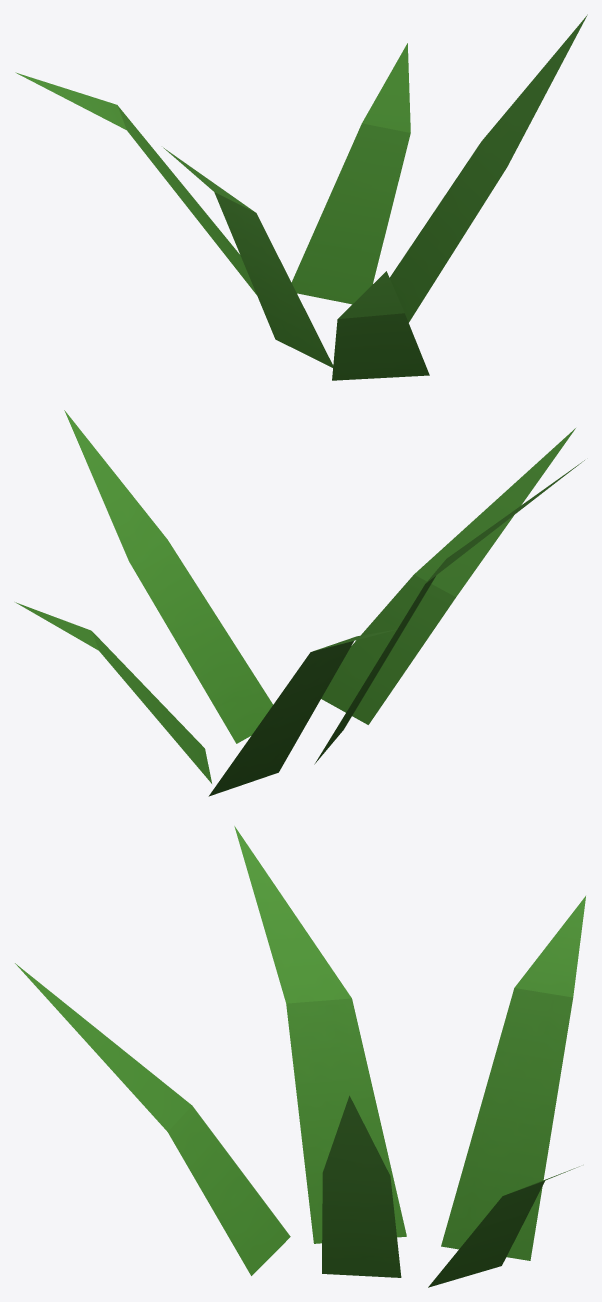
File: grass_patch_02_singlesided.fbx
3 views of the same model, one above another, from view 1: azimuth 30°, elevation 25°; view 2: azimuth 150°, elevation 25°; view 3: azimuth 270°, elevation 25° (orthographic). The views are drawn at different scales.
Visible parts, largest first — view 1: grass_patch_02_singlesided; view 2: grass_patch_02_singlesided; view 3: grass_patch_02_singlesided.
Part boxes in pixels (x1,y1,x2,y2): grass_patch_02_singlesided: [15, 14, 587, 380]; grass_patch_02_singlesided: [15, 410, 584, 796]; grass_patch_02_singlesided: [15, 826, 585, 1287].
Size of the model in its own units: 1 by 0.6 by 1.
Materials: 1 (1 with a texture image).
